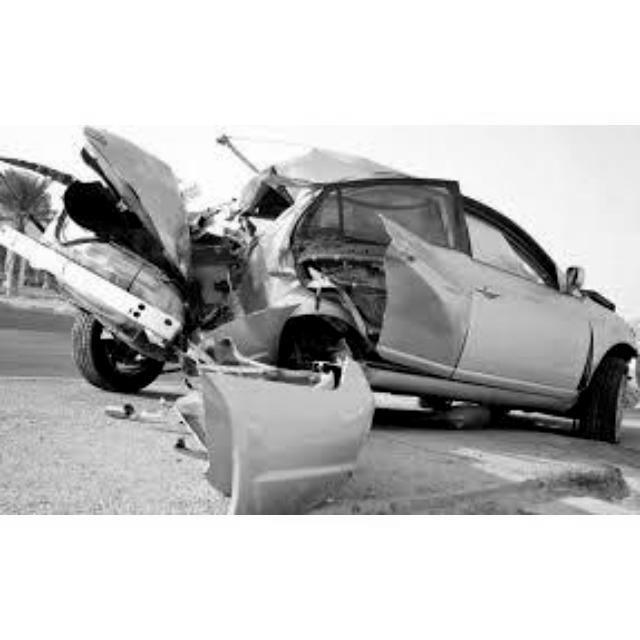rear-bumper-dent: (78, 243, 216, 343)
